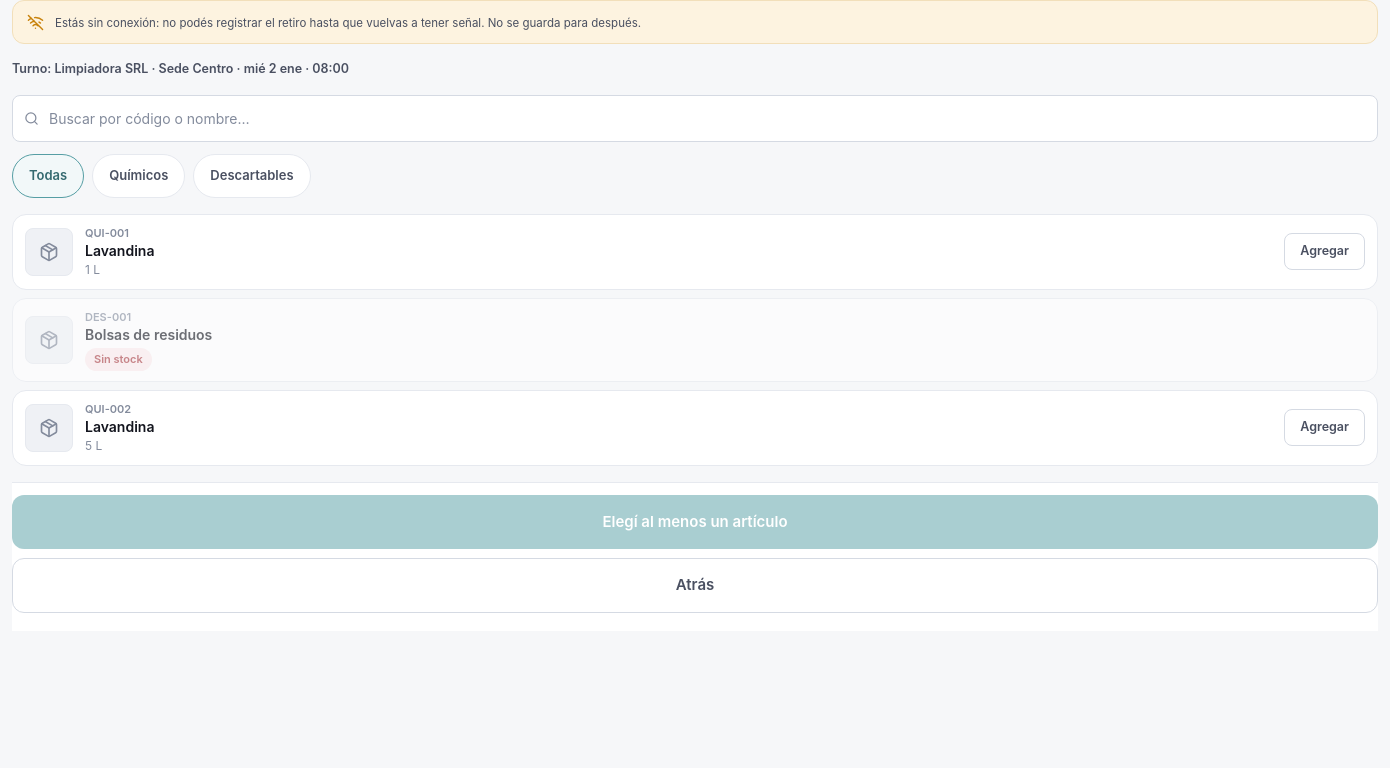
Test: WithdrawPage › sin conexión avisa y no deja confirmar
Expected: the text "Estás sin conexión: no podés registrar el retiro" is shown, [55,16,641,30]
Click the button with aria-label "Agregar Lavandina · 1 L": coordinates (1325, 252) [1284,233,1365,270]
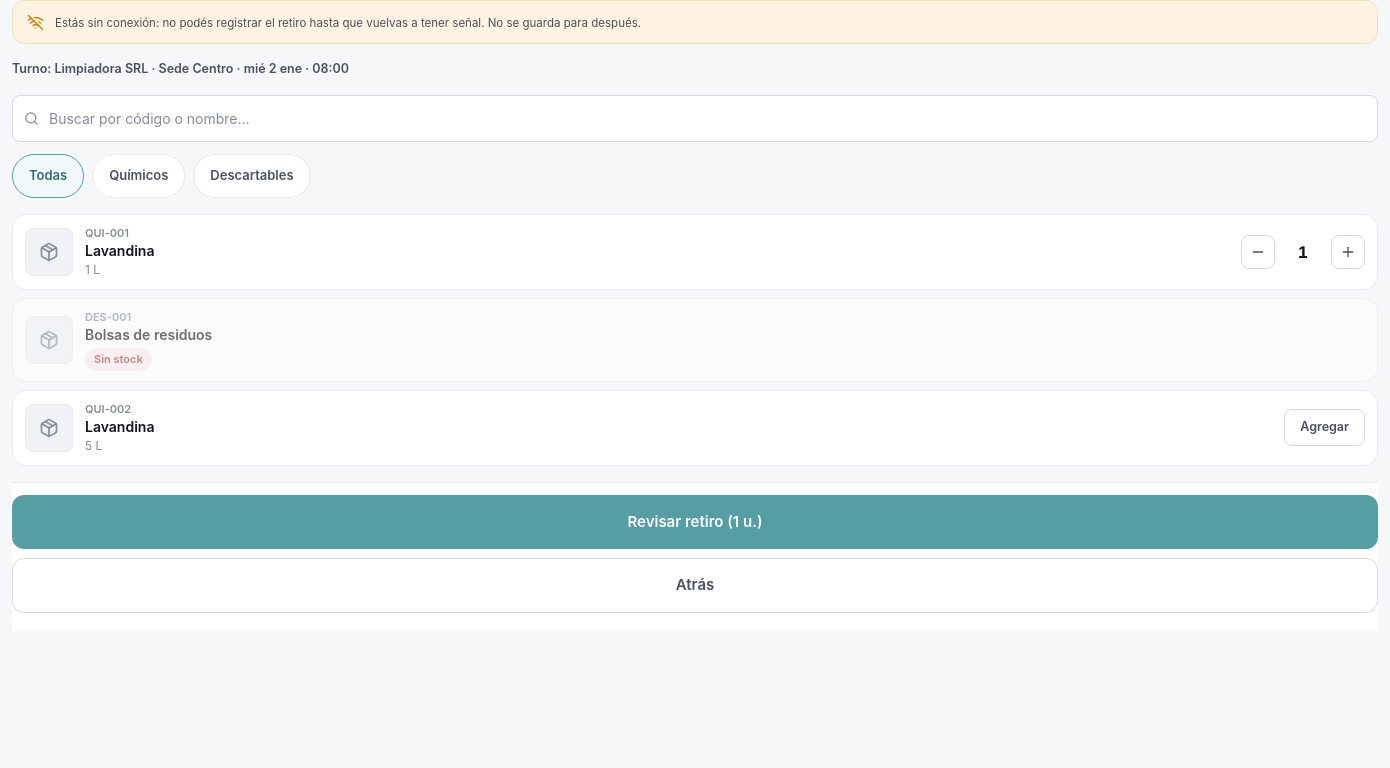
Click the button "Revisar retiro (1 u.)": coordinates (695, 522) [12,495,1378,549]
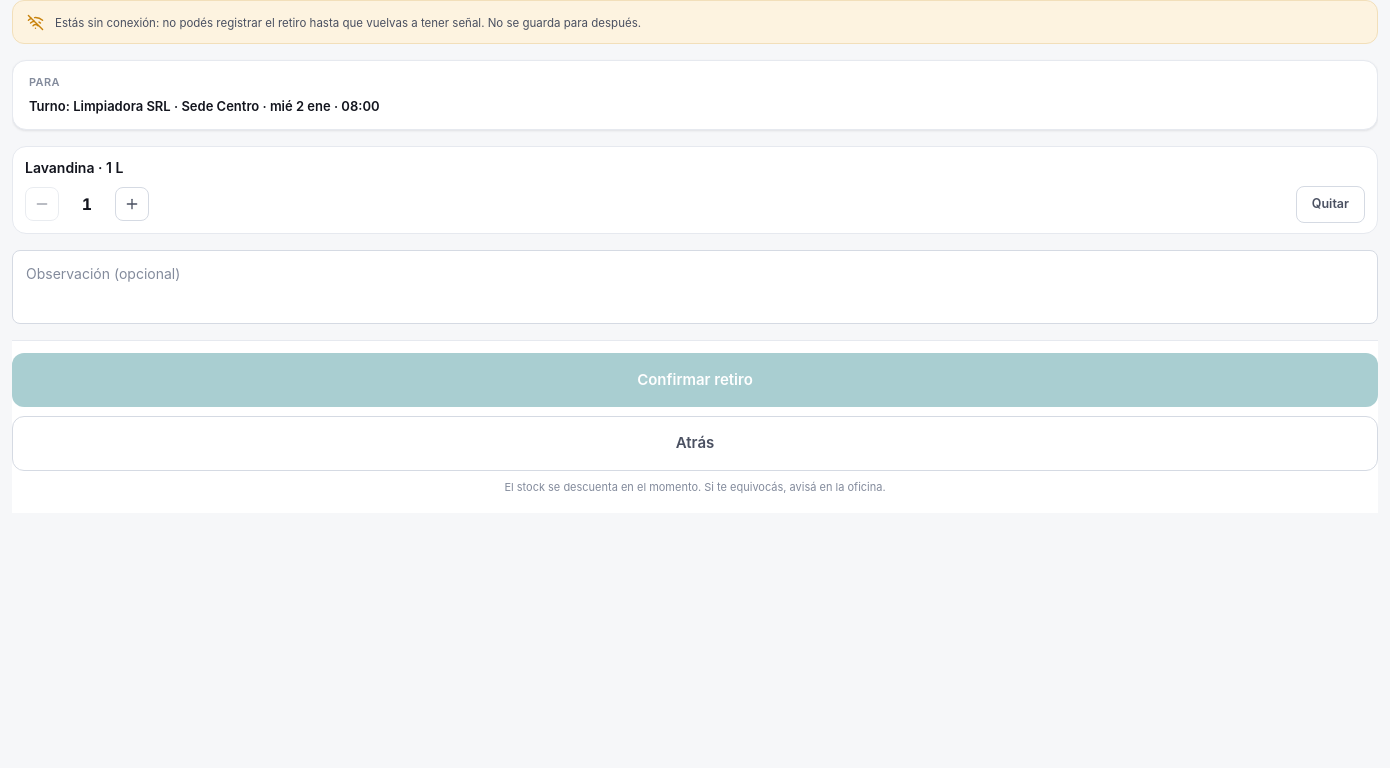
Now the button "Confirmar retiro" is disabled, box [12,353,1378,407]
